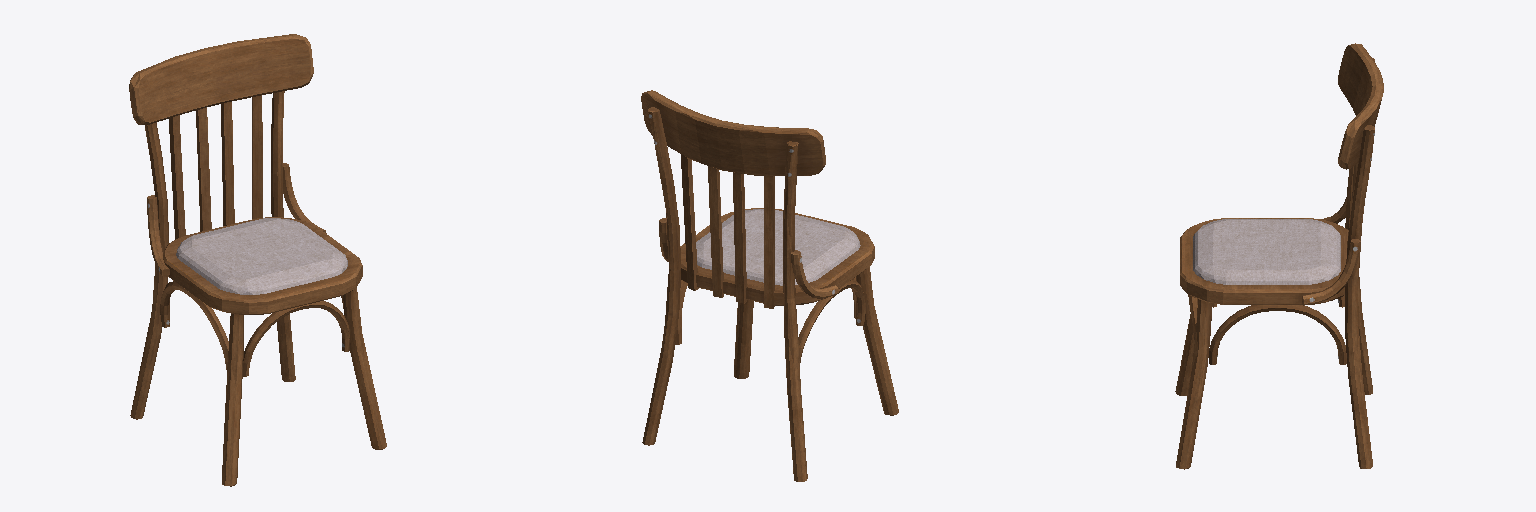
3 renders of one model, left to right at view 1: azimuth 30°, elevation 25°; view 2: azimuth 150°, elevation 25°; view 3: azimuth 270°, elevation 25°, orthographic.
Visible parts, largest first — view 1: Chair; view 2: Chair; view 3: Chair.
Part boxes in pixels (x1,y1,x2,y2): Chair: (129, 34, 386, 486); Chair: (641, 90, 898, 481); Chair: (1175, 43, 1383, 469).
Size of the model in its own units: 56.31 by 104 by 56.41.
1 materials, 1 textured.